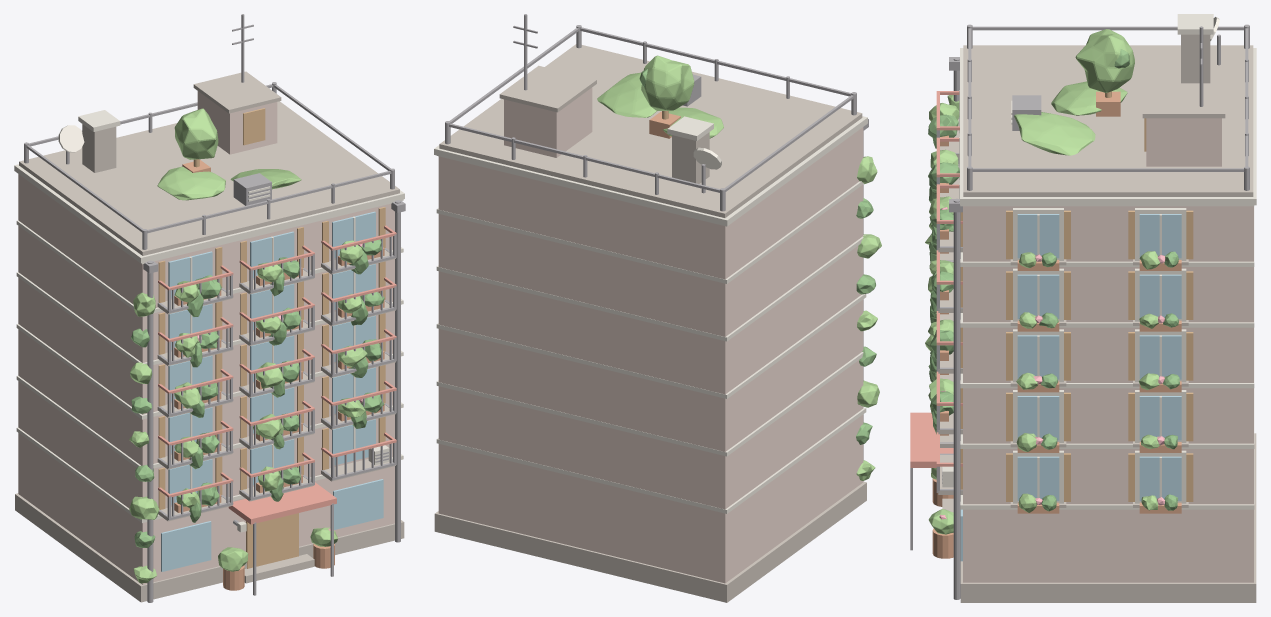
Rendered from Building_Apartment_D.fbx.
3 views of the same model, side by side, from view 1: azimuth 30°, elevation 25°; view 2: azimuth 150°, elevation 25°; view 3: azimuth 270°, elevation 25° (orthographic). The views are drawn at different scales.
Parts seen in each view (by area): view 1: Building_Apartment_D, Building_Apartment_D_Veg; view 2: Building_Apartment_D, Building_Apartment_D_Veg; view 3: Building_Apartment_D, Building_Apartment_D_Veg.
Part boxes in pixels (box(x1,y1,x2,y2)): Building_Apartment_D: box(14, 14, 405, 602); Building_Apartment_D_Veg: box(129, 108, 384, 590); Building_Apartment_D: box(434, 14, 868, 602); Building_Apartment_D_Veg: box(597, 55, 881, 480); Building_Apartment_D: box(910, 14, 1256, 602); Building_Apartment_D_Veg: box(925, 29, 1181, 558).
Bounding box in the file's own units: 6.75 × 10.28 × 5.95.
